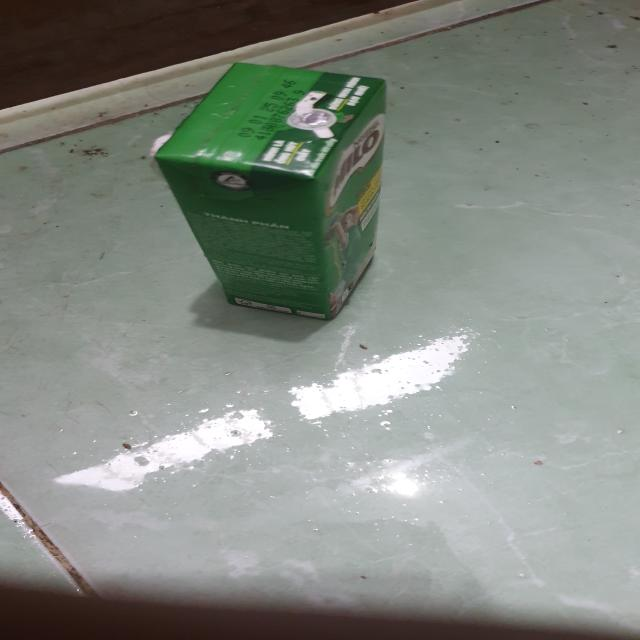Milo: (154, 69, 394, 322)
